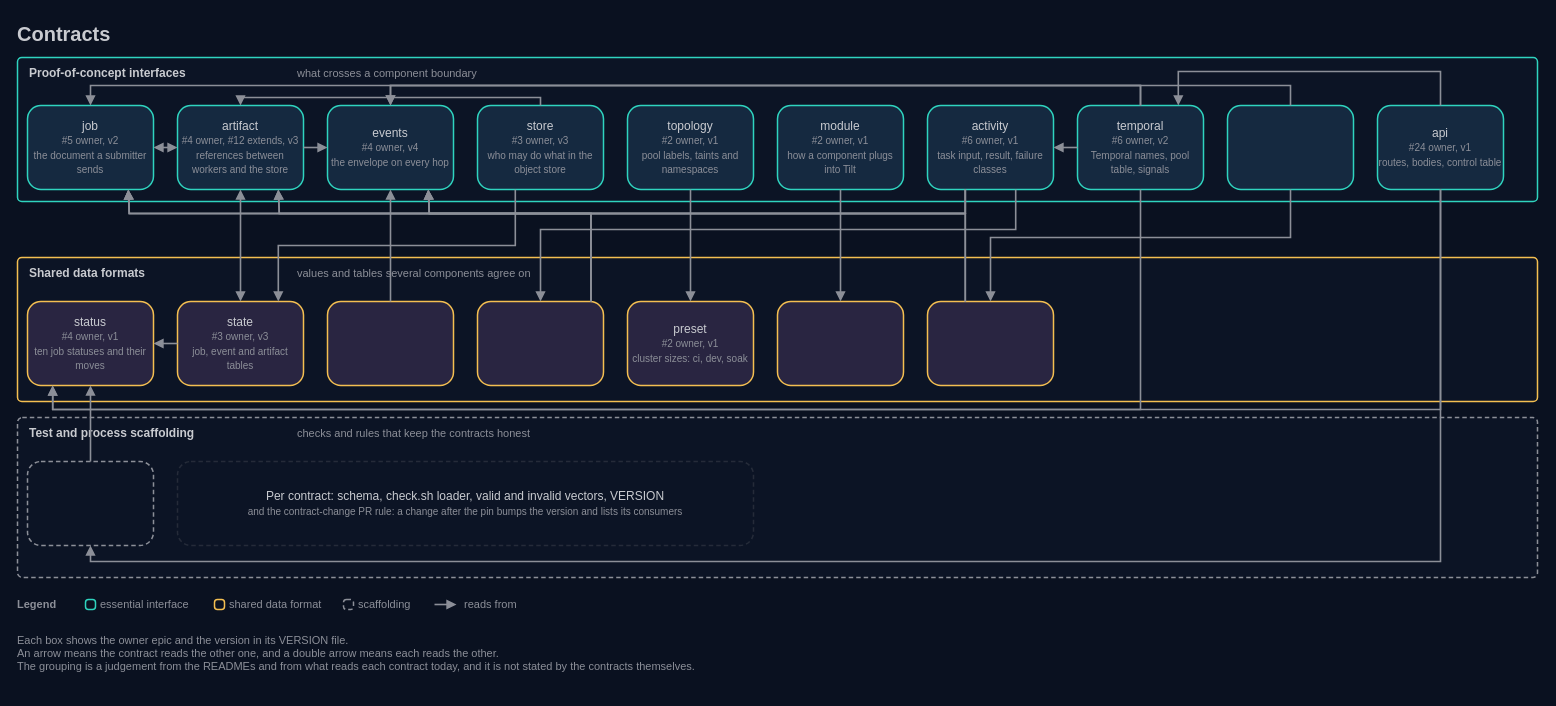
The diagram is 1556 pixels wide and 706 high, and some of its shapes have lost their labels. The shapes that lost their labels are listed below. From the top down, each one's centre as x and y in pixels, then its label:
At pixel 1290 147: "broker #7 owner, v1 intake queues, settle calls, dead-letter reasons".
At pixel 390 343: "instrumentation #4 owner, v2 metric, label, log and trace rules".
At pixel 540 343: "workload #11 owner, v1 guest contract, exit classes, result formats".
At pixel 840 343: "versions #1 owner, no VERSION file pins file of charts and images".
At pixel 990 343: "tenancy #7 owner, v1 tenants, priority classes and caps per preset".
At pixel 90 503: "stages #4 owner, v2 who emits and reads each event".
